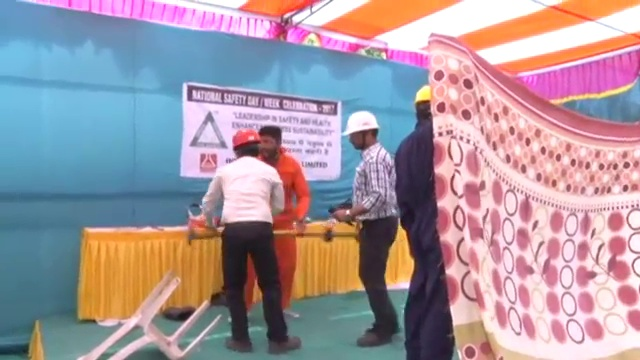helmet: (341, 108, 382, 136), (229, 126, 261, 148), (412, 83, 436, 103)
helmet_off: (259, 123, 282, 158)
helmet_on: (341, 107, 382, 152), (412, 84, 437, 128), (229, 126, 261, 160)
person: (200, 127, 299, 356), (395, 84, 456, 360), (335, 107, 401, 350), (255, 125, 309, 312)
